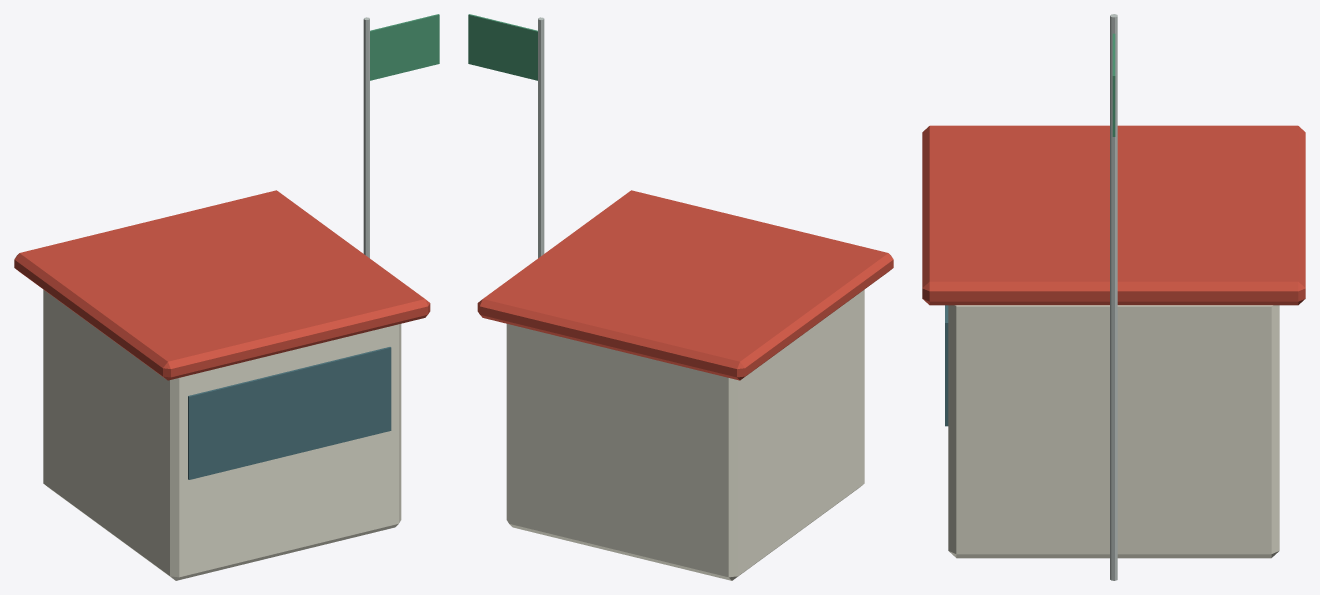
File: ENV_Circuit_MarshalPost_01.glb
3 views of the same model, side by side, from view 1: azimuth 30°, elevation 25°; view 2: azimuth 150°, elevation 25°; view 3: azimuth 270°, elevation 25° (orthographic). The views are drawn at different scales.
Parts seen in each view (by area): view 1: ENV_Circuit_MarshalPost_01; view 2: ENV_Circuit_MarshalPost_01; view 3: ENV_Circuit_MarshalPost_01.
Boxes of the visible parts, <box> form: ENV_Circuit_MarshalPost_01: <box>14,14,439,580</box>; ENV_Circuit_MarshalPost_01: <box>468,14,893,580</box>; ENV_Circuit_MarshalPost_01: <box>922,14,1305,580</box>.
Size of the model in its own units: 4.85 by 6 by 3.7.
